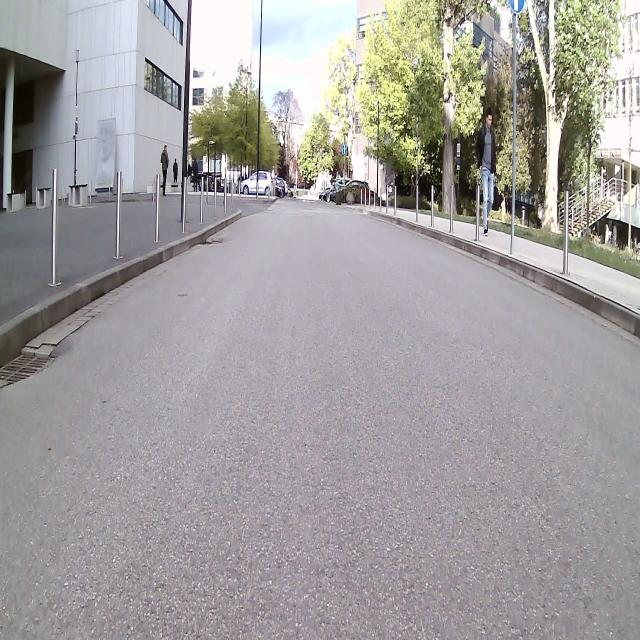person: (475, 100, 498, 236)
